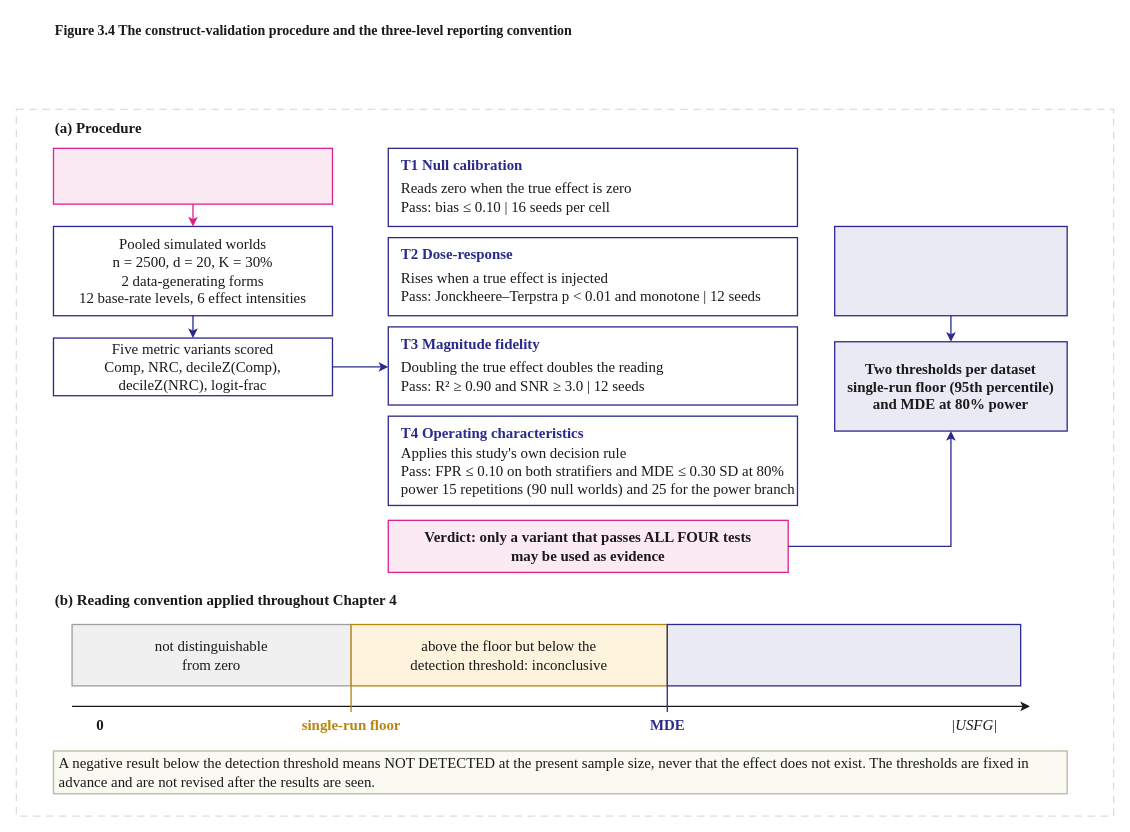
This 1130x832 diagram has some shape labels left out. The centre of each missing label's shape, as x and y in pixels:
effect detected: point 843,654
Pass thresholds declared BEFORE any result is observed: point 192,175
Whole procedure repeated on the three dataset-matched surrogate worlds: point 950,270
